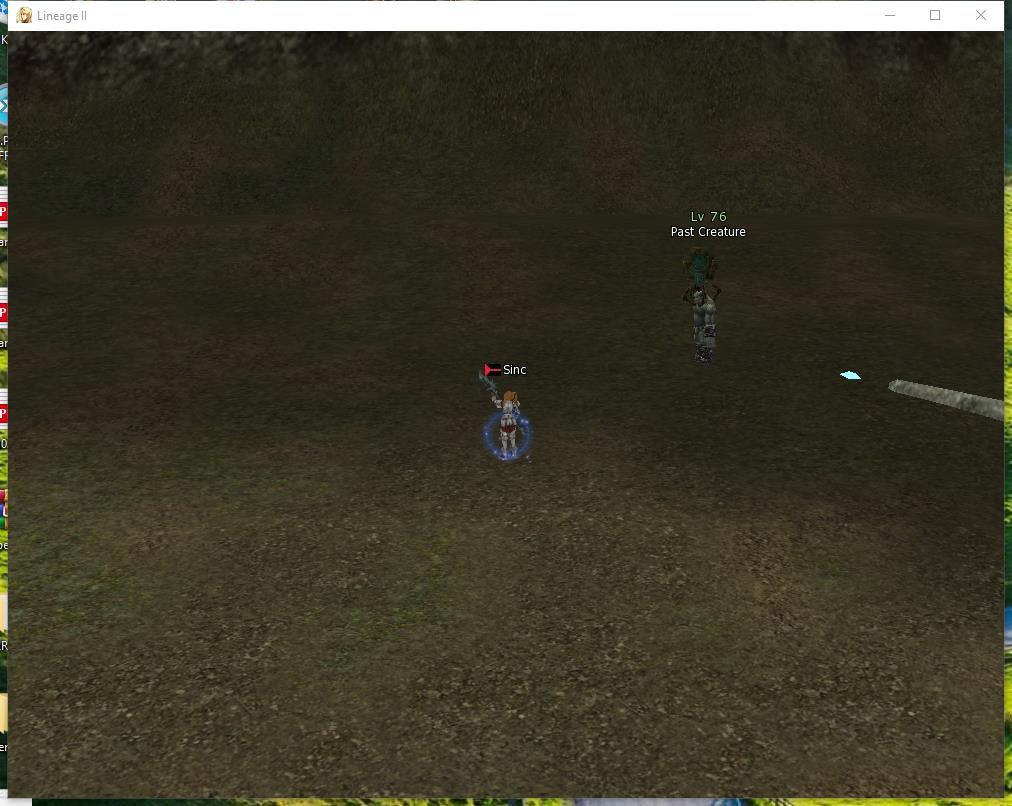monster: (669, 208, 747, 369)
